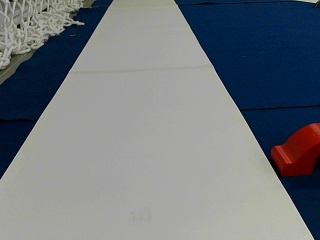bridge: (272, 121, 318, 172)
